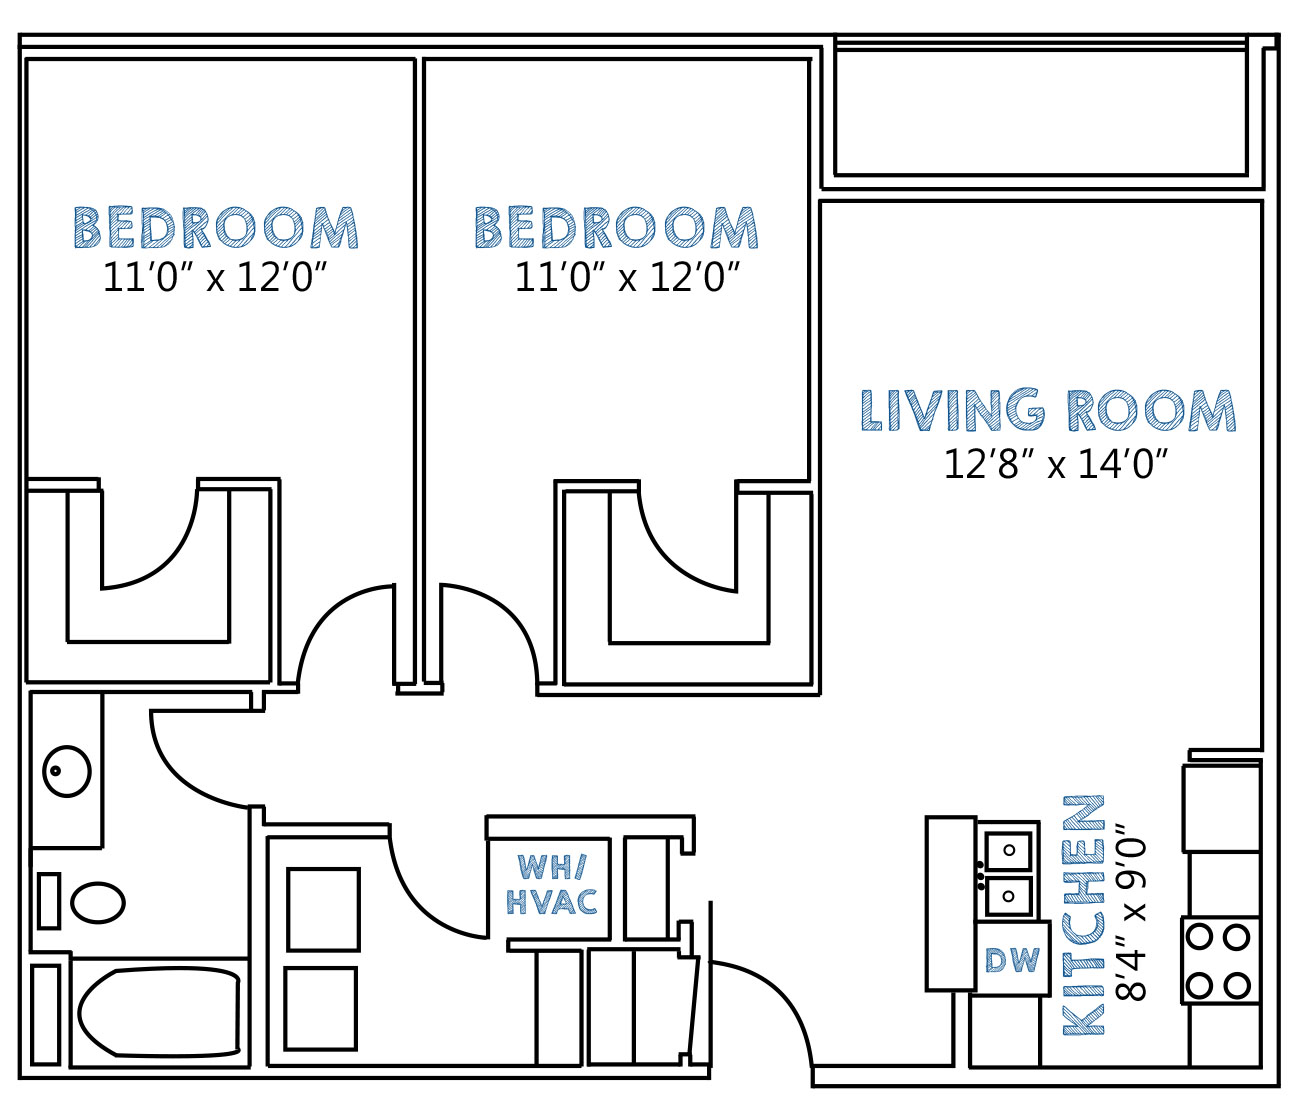door: (713, 956, 825, 1064), (432, 576, 538, 673), (380, 858, 505, 939), (135, 699, 235, 799), (642, 514, 757, 599), (92, 513, 200, 603), (317, 573, 404, 658)
room: (810, 186, 1280, 708), (20, 44, 428, 491), (420, 44, 822, 489)
